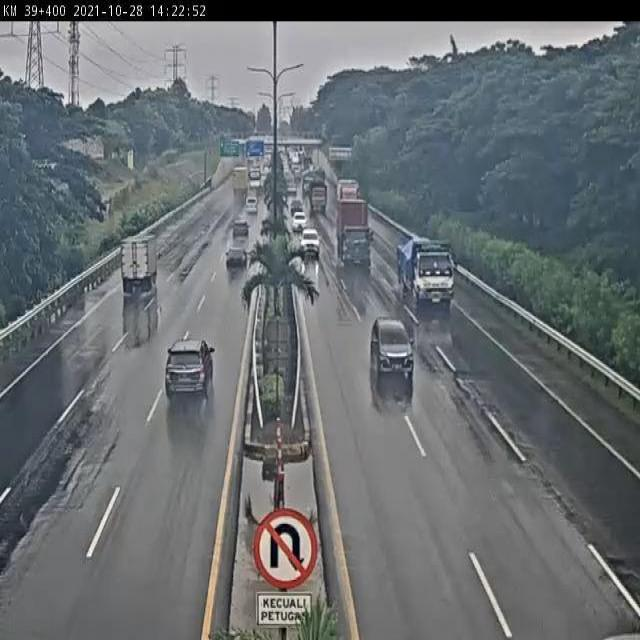car: (164, 337, 215, 400), (371, 316, 415, 383), (298, 230, 324, 262), (226, 245, 247, 272), (292, 212, 310, 235), (232, 219, 250, 237)
truck-l-: (395, 237, 460, 311)
truck-m-: (119, 236, 161, 296)
truck-xl-: (337, 197, 376, 272)
